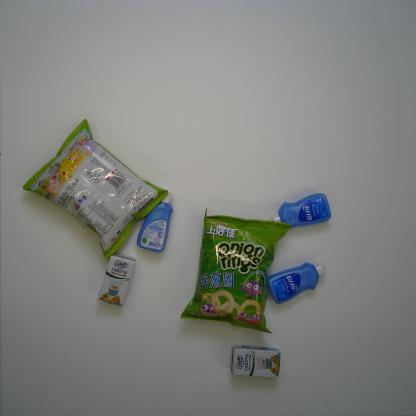Milk: (96, 254, 136, 308), (230, 344, 282, 378)
Personal Hygiene: (268, 260, 326, 304), (136, 192, 174, 254), (270, 192, 332, 230)
Puffed Food: (21, 119, 170, 260), (178, 207, 292, 335)
